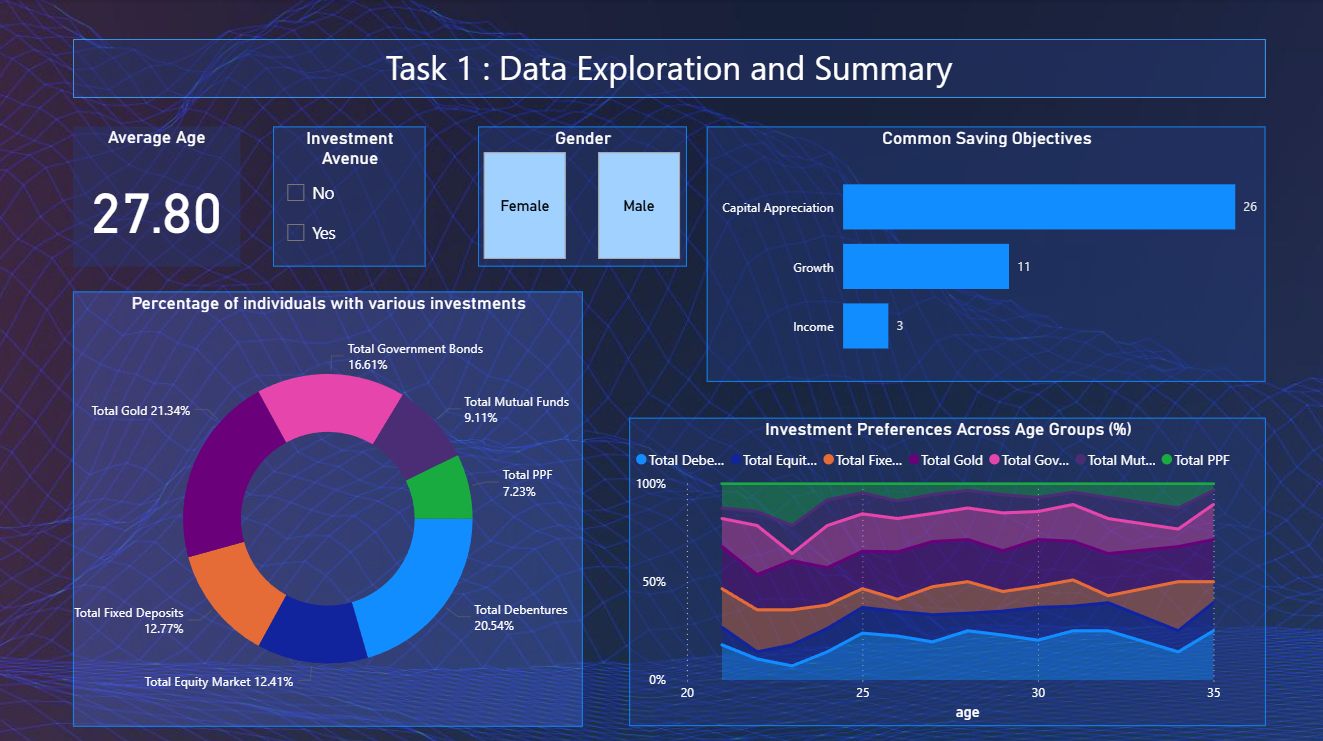

The page's visual inventory and layout, read from the dashboard file:
{"tool":"powerbi","page":{"name":"Task 1","canvas":[1280,720],"ordinal":0},"visuals":[{"type":"donutChart","title":"Percentage of individuals with various  investments","fields":{"Y":["Data_set 2.Total Debentures","Data_set 2.Total Equity Market","Data_set 2.Total Fixed Deposits","Data_set 2.Total Gold","Data_set 2.Total Government Bonds","Data_set 2.Total Mutual Funds","Data_set 2.Total PPF"]},"box":[72.4,282.3,492.2,419.8],"z":0},{"type":"clusteredBarChart","title":"Common Saving Objectives","fields":{"Y":["CountNonNull(Data_set 2.gender)"],"Category":["Data_set 2.Objective"]},"box":[684.1,123.1,539.3,246.1],"z":1000},{"type":"slicer","title":"Investment Avenue","fields":{"Values":["Data_set 2.Investment_Avenues"]},"box":[265.4,123.1,147.2,135.1],"z":2000},{"type":"hundredPercentStackedAreaChart","title":"Investment Preferences Across Age Groups (%)","fields":{"Category":["Data_set 2.age"],"Y":["Data_set 2.Total Debentures","Data_set 2.Total Equity Market","Data_set 2.Total Fixed Deposits","Data_set 2.Total Gold","Data_set 2.Total Government Bonds","Data_set 2.Total Mutual Funds","Data_set 2.Total PPF"]},"box":[609.3,404.2,614.1,298],"z":3000},{"type":"advancedSlicerVisual","title":"Gender","fields":{"Values":["Data_set 2.gender"]},"box":[463.3,123.1,201.5,135.1],"z":4000},{"type":"textbox","box":[72.4,38.6,1150.9,56.7],"z":5000},{"type":"card","title":"Average Age","fields":{"Values":["Data_set 2.Average Age"]},"box":[72.4,123.1,161.7,135.1],"z":6000}]}

Visuals, with their boxes in screenshot pixels (x1, y1, x2, y2), scaled from the page's 1280x720 canvas onto the 1323x741 screenshot:
"Percentage of individuals with various  investments" donutChart: (x1=75, y1=291, x2=584, y2=723)
"Common Saving Objectives" clusteredBarChart: (x1=707, y1=127, x2=1264, y2=380)
"Investment Avenue" slicer: (x1=274, y1=127, x2=426, y2=266)
"Investment Preferences Across Age Groups (%)" hundredPercentStackedAreaChart: (x1=630, y1=416, x2=1264, y2=723)
"Gender" advancedSlicerVisual: (x1=479, y1=127, x2=687, y2=266)
textbox: (x1=75, y1=40, x2=1264, y2=98)
"Average Age" card: (x1=75, y1=127, x2=242, y2=266)
